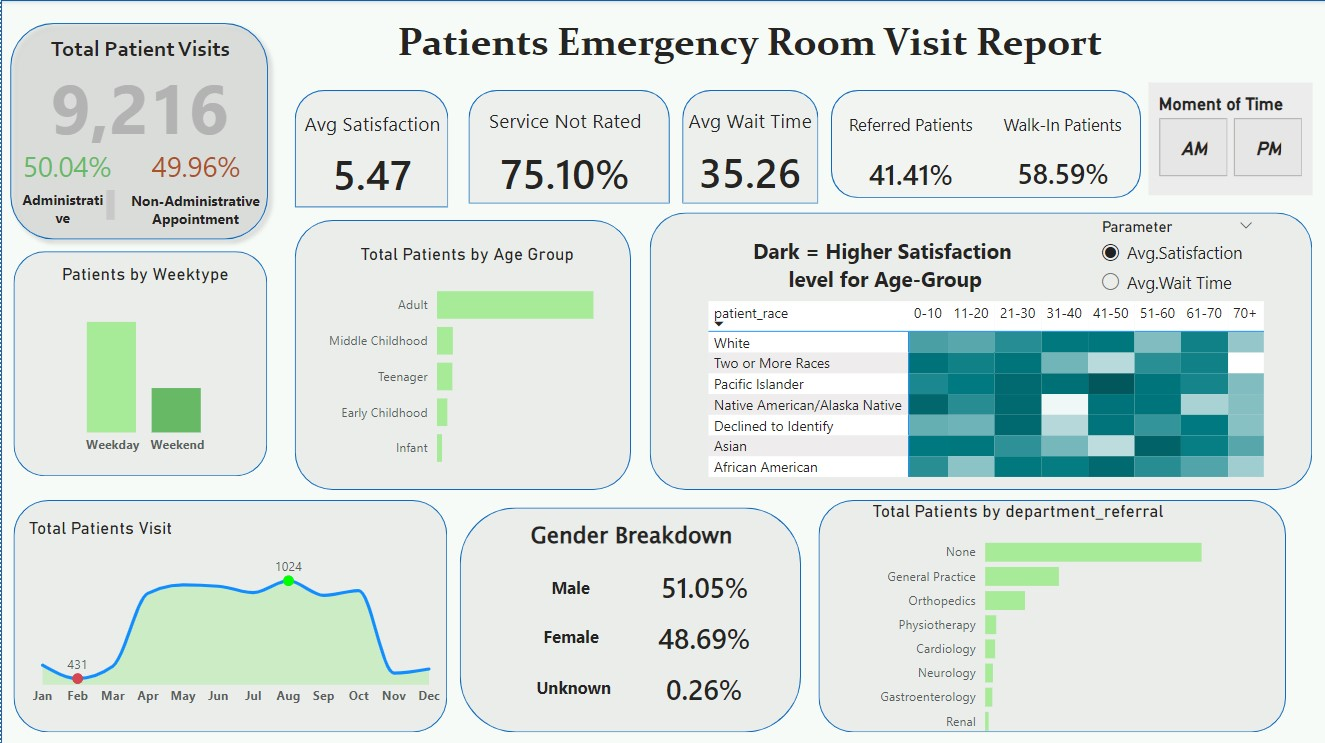

The page's visual inventory and layout, read from the dashboard file:
{"tool":"powerbi","page":{"name":"Page 1","canvas":[1280,720],"ordinal":0},"visuals":[{"type":"shape","box":[0,0,1280,720.2],"z":1000},{"type":"shape","box":[789,482.6,451.2,224.4],"z":1500},{"type":"shape","box":[12.1,242.5,244.9,217.2],"z":2000},{"type":"shape","box":[283.5,212.3,324.5,260.6],"z":3000},{"type":"shape","box":[626.1,205.1,639.4,267.8],"z":4000},{"type":"shape","box":[12.1,482.6,418.6,224.4],"z":5000},{"type":"shape","box":[442.8,489.8,329.4,217.2],"z":6000},{"type":"shape","box":[283.5,86.9,148.4,113.4],"z":7000},{"type":"shape","box":[657.5,86.9,131.5,109.8],"z":8000},{"type":"shape","box":[801.4,86.4,299.1,104.3],"z":9000},{"type":"shape","box":[451.2,86.9,194.2,109.8],"z":10000},{"type":"shape","box":[0,13.3,266.6,226.8],"z":11000},{"type":"card","fields":{"Values":["Calculations.Total Patients"]},"box":[6,38.6,255.8,123.1],"z":12000},{"type":"card","fields":{"Values":["Calculations.% Administrative Schedule"]},"box":[0,134.5,127.6,54.9],"z":13000},{"type":"card","fields":{"Values":["Calculations.% Non Administrative Schedule"]},"box":[127.6,137.2,120.8,48],"z":14000},{"type":"card","title":"Avg Satisfaction","fields":{"Values":["Calculations.Average Satisfaction Score"]},"box":[266.2,105.7,183.9,98.8],"z":15000},{"type":"card","title":"Service Not Rated","fields":{"Values":["Calculations.% No Rating"]},"box":[450.1,104.3,189.4,100.2],"z":16000},{"type":"card","title":"Avg Wait Time","fields":{"Values":["Calculations.Average Wait Time"]},"box":[639.5,104.3,167.4,98.8],"z":17000},{"type":"pivotTable","fields":{"Values":["Calculations.Average Satisfaction Score"],"Rows":["Patient Dataset.patient_race"],"Columns":["Patient Dataset.Age Buckets"]},"box":[678,285.9,562.2,179.8],"z":18000},{"type":"slicer","fields":{"Values":["Parameter.Parameter"]},"box":[1049.6,205.1,171.3,89.3],"z":19000},{"type":"clusteredBarChart","fields":{"Category":["Patient Dataset.Age Group"],"Y":["Calculations.Total Patients"]},"box":[304,235.3,292,230.4],"z":20000},{"type":"lineChart","title":"Total Patients Visit","fields":{"Category":["Date.Month"],"Y":["Calculations.Total Patients","Calculations.Values Max Point (Month)"]},"box":[21.7,499.5,410.2,190.6],"z":21000},{"type":"barChart","fields":{"Category":["Patient Dataset.department_referral"],"Y":["Calculations.Total Patients"]},"box":[836.1,482.6,351.1,237.7],"z":22000},{"type":"advancedSlicerVisual","title":"Moment of Time","fields":{"Values":["Patient Dataset.AM/PM"]},"box":[1108,80,158,109],"z":23000},{"type":"card","fields":{"Values":["Calculations.% Referred Patients"]},"box":[819.2,146.8,118,43.9],"z":24000},{"type":"card","fields":{"Values":["Calculations.% Unreferred Patients"]},"box":[959.2,146.8,131.7,42.5],"z":25000},{"type":"textbox","box":[12.3,178.4,102.9,49.4],"z":26000},{"type":"textbox","box":[112.2,179.8,150.8,48.3],"z":27000},{"type":"textbox","box":[805.5,104.3,144.1,48],"z":28000},{"type":"textbox","box":[956.4,104.3,135.8,42.5],"z":29000},{"type":"card","fields":{"Values":["Calculations.Heatmap"]},"box":[694.9,212.3,317.3,84.5],"z":30000},{"type":"clusteredColumnChart","title":"Patients by Weektype","fields":{"Y":["Calculations.Total Patients"],"Category":["Date.Weektype"]},"box":[21.7,254.6,235.3,193],"z":31000},{"type":"card","fields":{"Values":["Calculations.% Female Visit"]},"box":[617.7,587.5,121.9,60.3],"z":32000},{"type":"card","fields":{"Values":["Calculations.% Male Visit"]},"box":[621.3,542.9,115.8,50.7],"z":33000},{"type":"card","fields":{"Values":["Calculations.% Unknown Visit"]},"box":[617.7,633.4,121.9,66.4],"z":34000},{"type":"textbox","box":[458.4,551.3,182.2,47.1],"z":35000},{"type":"textbox","box":[452.4,598.4,195.4,42.2],"z":36000},{"type":"textbox","box":[442.8,647.9,219.6,35],"z":37000},{"type":"textbox","box":[12.1,29,244.9,47.1],"z":38000},{"type":"textbox","box":[323.3,13.3,715.4,62.7],"z":39000},{"type":"textbox","box":[495.8,495.8,225.6,47.1],"z":39001}]}

Visuals, with their boxes in screenshot pixels (x1, y1, x2, y2), scaled from the page's 1280x720 canvas onto the 1325x743 screenshot:
shape: locate(0, 0, 1324, 742)
shape: locate(817, 498, 1284, 730)
shape: locate(13, 250, 266, 474)
shape: locate(293, 219, 629, 488)
shape: locate(648, 212, 1310, 488)
shape: locate(13, 498, 446, 730)
shape: locate(458, 505, 799, 730)
shape: locate(293, 90, 447, 207)
shape: locate(681, 90, 817, 203)
shape: locate(830, 89, 1139, 197)
shape: locate(467, 90, 668, 203)
shape: locate(0, 14, 276, 248)
card - Calculations.Total Patients: locate(6, 40, 271, 167)
card - Calculations.% Administrative Schedule: locate(0, 139, 132, 195)
card - Calculations.% Non Administrative Schedule: locate(132, 142, 257, 191)
"Avg Satisfaction" card: locate(276, 109, 466, 211)
"Service Not Rated" card: locate(466, 108, 662, 211)
"Avg Wait Time" card: locate(662, 108, 835, 210)
pivotTable - Calculations.Average Satisfaction Score x Patient Dataset.patient_race: locate(702, 295, 1284, 481)
slicer - Parameter.Parameter: locate(1086, 212, 1264, 304)
clusteredBarChart - Patient Dataset.Age Group x Calculations.Total Patients: locate(315, 243, 617, 481)
"Total Patients Visit" lineChart: locate(22, 515, 447, 712)
barChart - Patient Dataset.department_referral x Calculations.Total Patients: locate(865, 498, 1229, 742)
"Moment of Time" advancedSlicerVisual: locate(1147, 83, 1311, 195)
card - Calculations.% Referred Patients: locate(848, 151, 970, 197)
card - Calculations.% Unreferred Patients: locate(993, 151, 1129, 195)
textbox: locate(13, 184, 119, 235)
textbox: locate(116, 186, 272, 235)
textbox: locate(834, 108, 983, 157)
textbox: locate(990, 108, 1131, 151)
card - Calculations.Heatmap: locate(719, 219, 1048, 306)
"Patients by Weektype" clusteredColumnChart: locate(22, 263, 266, 462)
card - Calculations.% Female Visit: locate(639, 606, 766, 668)
card - Calculations.% Male Visit: locate(643, 560, 763, 613)
card - Calculations.% Unknown Visit: locate(639, 654, 766, 722)
textbox: locate(475, 569, 663, 618)
textbox: locate(468, 618, 671, 661)
textbox: locate(458, 669, 686, 705)
textbox: locate(13, 30, 266, 79)
textbox: locate(335, 14, 1075, 78)
textbox: locate(513, 512, 747, 560)
